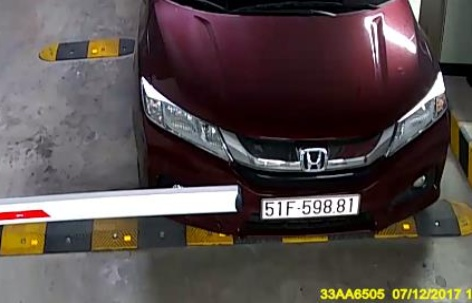plate: (258, 190, 365, 227)
